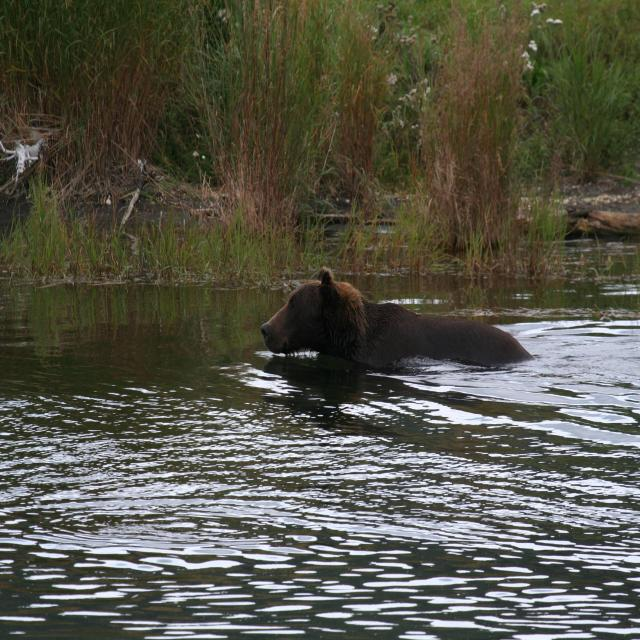bear face: (260, 268, 532, 366)
